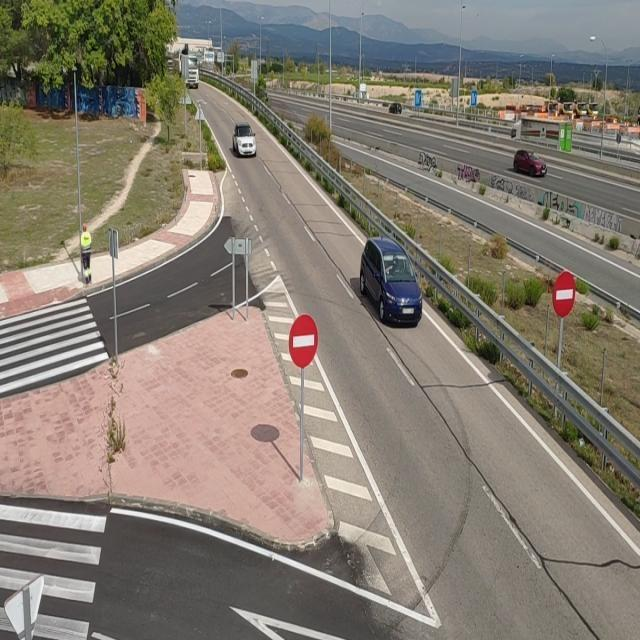Truck: (180, 52, 202, 89)
Van: (354, 225, 428, 333), (230, 122, 258, 158)
